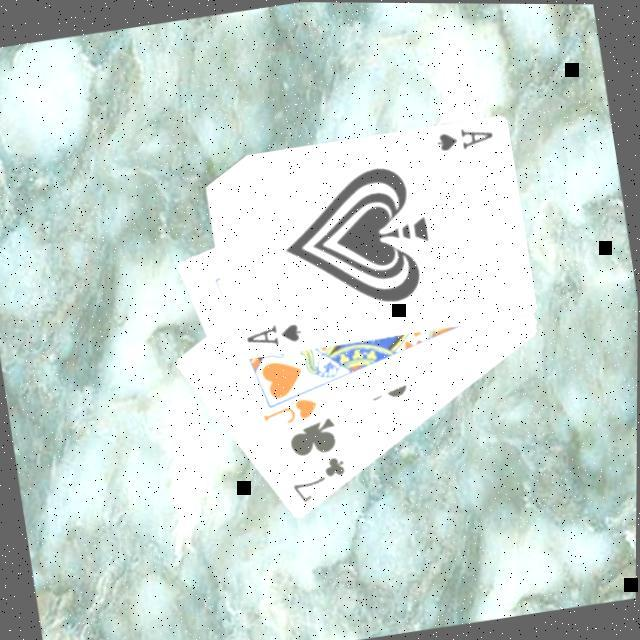7C: (287, 452, 354, 508)
AS: (432, 121, 498, 158), (240, 318, 306, 354)
JH: (258, 393, 324, 432)
